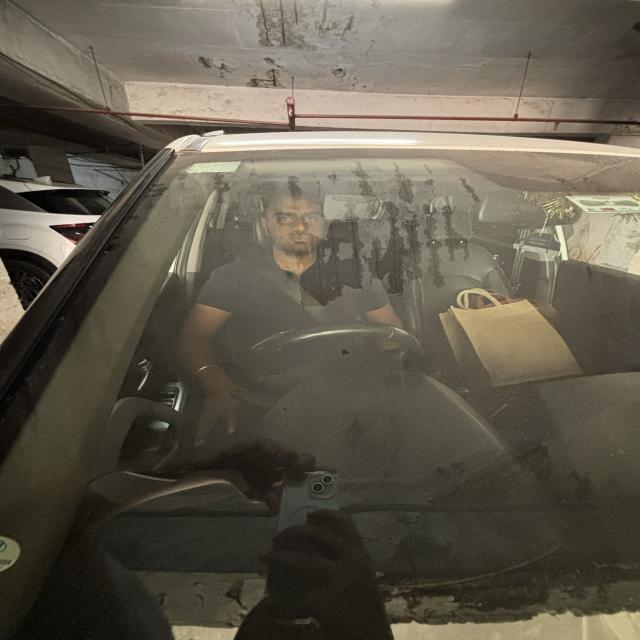seatbelt: (192, 265, 410, 362)
